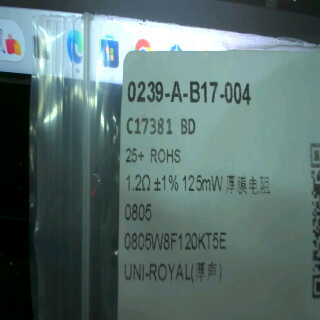1.2R: (122, 170, 157, 223)
